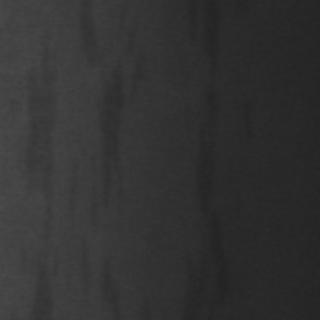inclusion: (181, 2, 237, 306), (76, 7, 134, 225), (18, 32, 62, 308)
